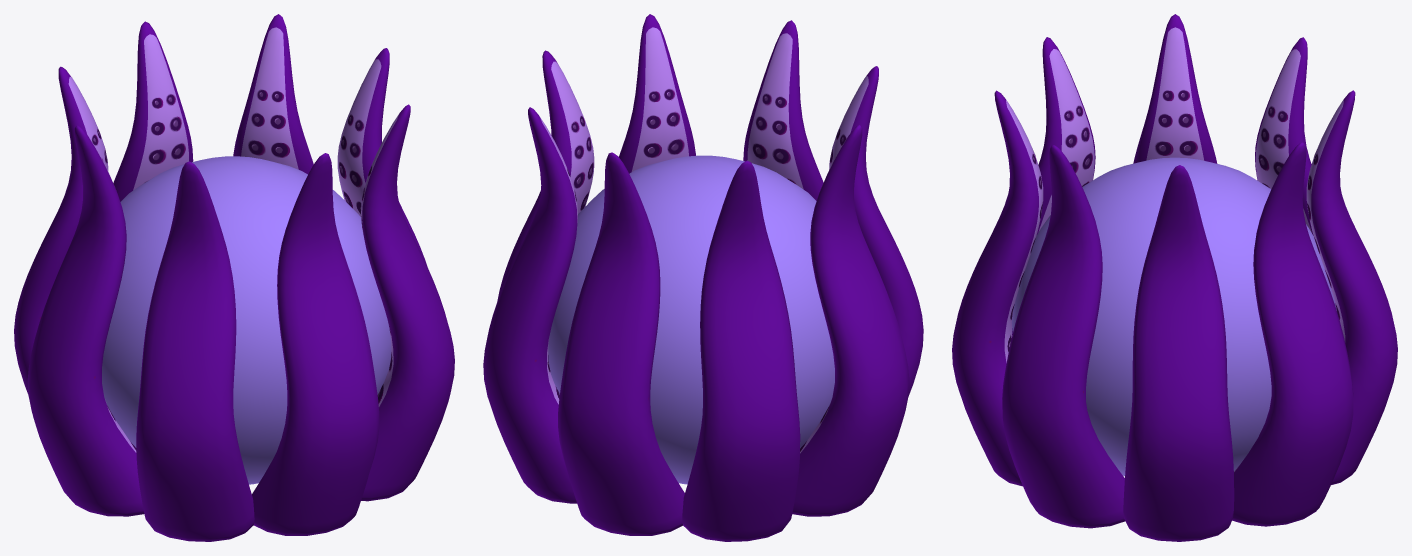
Rendered from Planeta1.glb.
3 views of the same model, side by side, from view 1: azimuth 30°, elevation 25°; view 2: azimuth 150°, elevation 25°; view 3: azimuth 270°, elevation 25° (orthographic).
Visible parts, largest first — view 1: Planet1; view 2: Planet1; view 3: Planet1.
Boxes of the visible parts, x1=… form: Planet1: x1=14, y1=14, x2=454, y2=541; Planet1: x1=483, y1=14, x2=923, y2=541; Planet1: x1=952, y1=14, x2=1397, y2=541.
Size of the model in its own units: 2.73 by 2.56 by 2.73.
2 materials, 1 textured.
